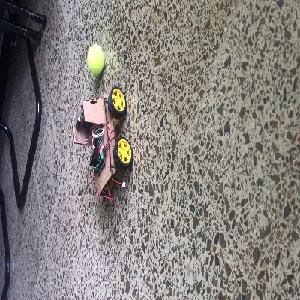Ball: (85, 45, 104, 76)
Robot: (73, 80, 134, 200)
